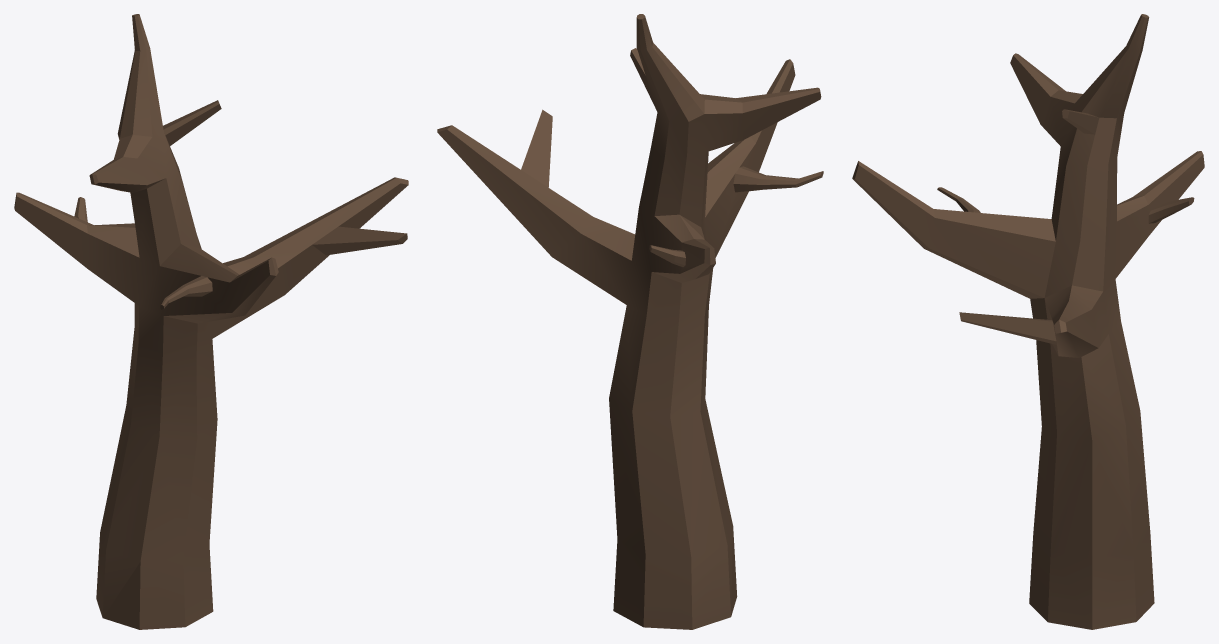
The model's file is twig_2.obj.
The picture shows the model from 3 angles, left to right: view 1: azimuth 30°, elevation 25°; view 2: azimuth 150°, elevation 25°; view 3: azimuth 270°, elevation 25°; orthographic projection. The views are drawn at different scales.
Visible parts, largest first — view 1: Vegetation_Tree_Trunk_09_Mesh.005; view 2: Vegetation_Tree_Trunk_09_Mesh.005; view 3: Vegetation_Tree_Trunk_09_Mesh.005.
Boxes of the visible parts, x1,y1,x2,y2 form: Vegetation_Tree_Trunk_09_Mesh.005: [14, 14, 408, 629]; Vegetation_Tree_Trunk_09_Mesh.005: [437, 14, 823, 629]; Vegetation_Tree_Trunk_09_Mesh.005: [852, 14, 1204, 629].
Size of the model in its own units: 2.39 by 3.84 by 2.07.
